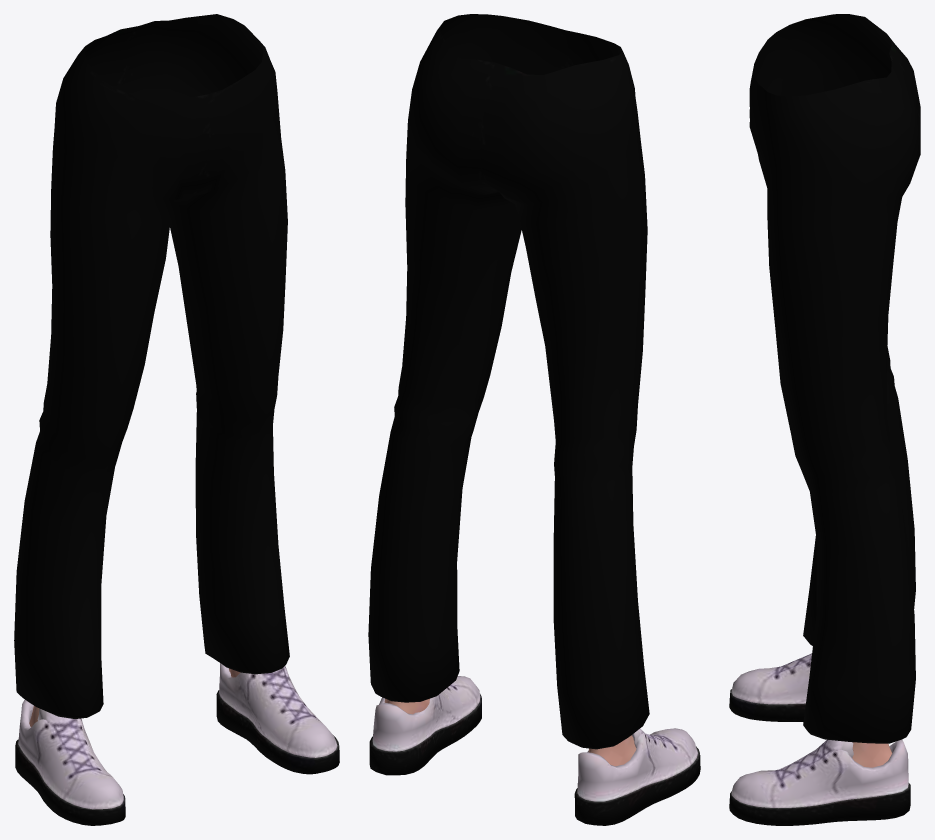
The model's file is 231101_G_Leg_02.glb.
The picture shows the model from 3 angles, left to right: view 1: azimuth 30°, elevation 25°; view 2: azimuth 150°, elevation 25°; view 3: azimuth 270°, elevation 25°; orthographic projection. The views are drawn at different scales.
Parts seen in each view (by area): view 1: G_Leg_02; view 2: G_Leg_02; view 3: G_Leg_02.
Boxes of the visible parts, box(x1,y1,x2,y2) form: G_Leg_02: box(14, 14, 339, 825); G_Leg_02: box(368, 14, 700, 825); G_Leg_02: box(729, 14, 920, 825).
Size of the model in its own units: 0.4717 by 1.19 by 0.2898.
Materials: 1 (1 with a texture image).
